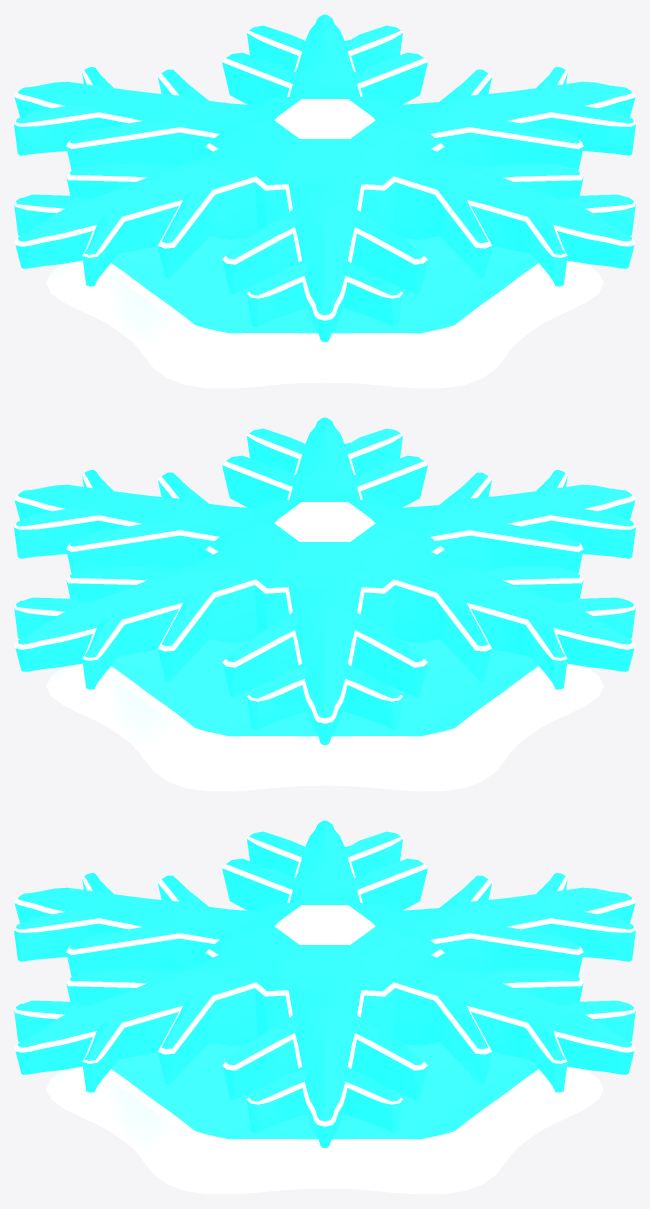
The model's file is Ice_Snowflake_Cyan.glb.
3 renders of one model, top to bottom at view 1: azimuth 30°, elevation 25°; view 2: azimuth 150°, elevation 25°; view 3: azimuth 270°, elevation 25°, orthographic.
Visible parts, largest first — view 1: Button_Cyan_Surface, Button_Cyan_Frame; view 2: Button_Cyan_Surface, Button_Cyan_Frame; view 3: Button_Cyan_Surface, Button_Cyan_Frame.
Boxes of the visible parts, x1=… form: Button_Cyan_Surface: x1=14, y1=14, x2=635, y2=341; Button_Cyan_Frame: x1=46, y1=236, x2=603, y2=388; Button_Cyan_Surface: x1=14, y1=417, x2=635, y2=744; Button_Cyan_Frame: x1=46, y1=639, x2=603, y2=791; Button_Cyan_Surface: x1=14, y1=820, x2=635, y2=1147; Button_Cyan_Frame: x1=46, y1=1042, x2=603, y2=1194.
Bounding box in the file's own units: 2 × 0.525 × 1.74.
